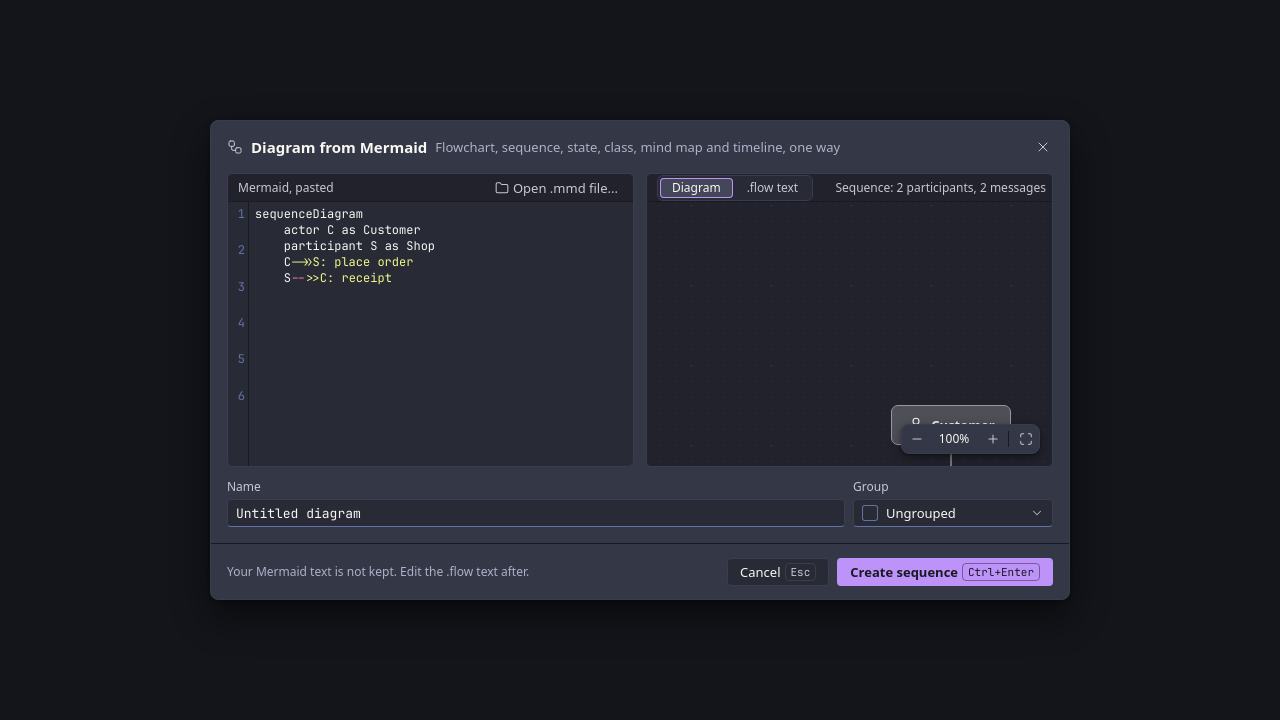
fix round 2, L3 and L4: the dialog opens with focus in the Mermaid text, and the toast names the diagram without .flow
Expected: the element with class "cm-editor" is shown, [228,202,435,466]
Click the button "Create sequence Ctrl+Enter".
click(945, 572)  # box [837,558,1053,586]
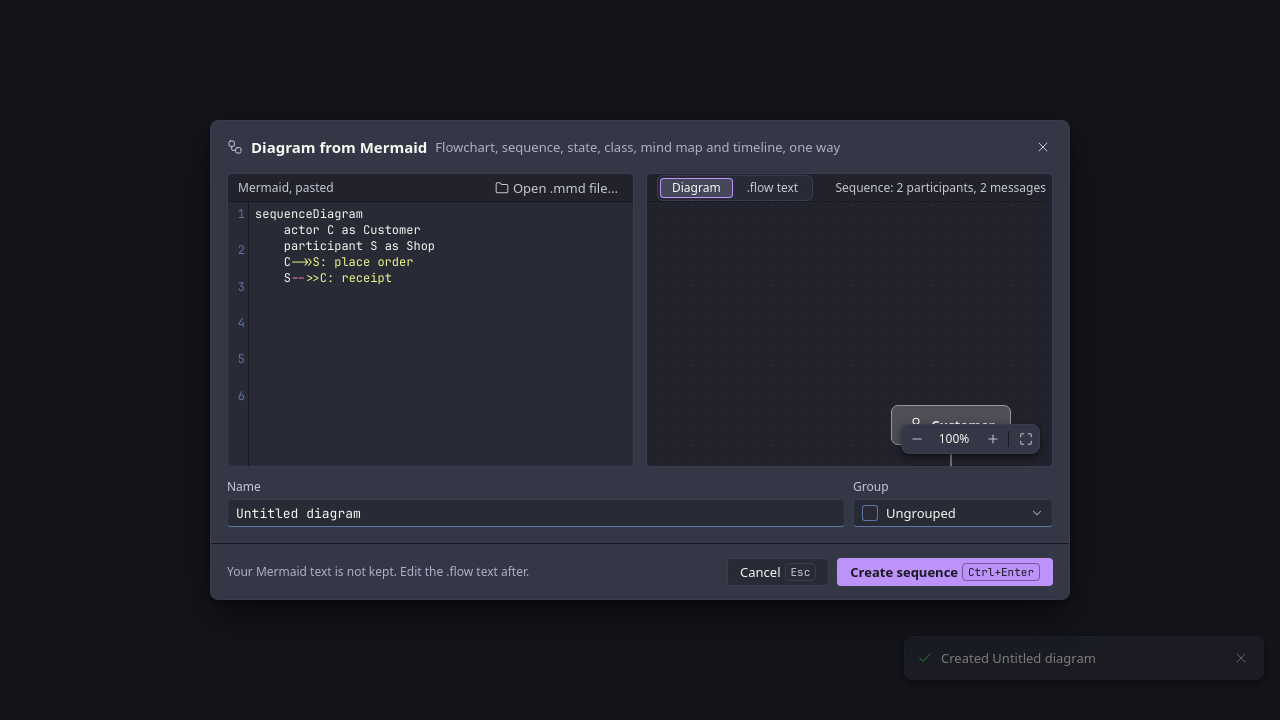
Expected: the text "Created Untitled diagram" is shown, [941,649,1096,667]
